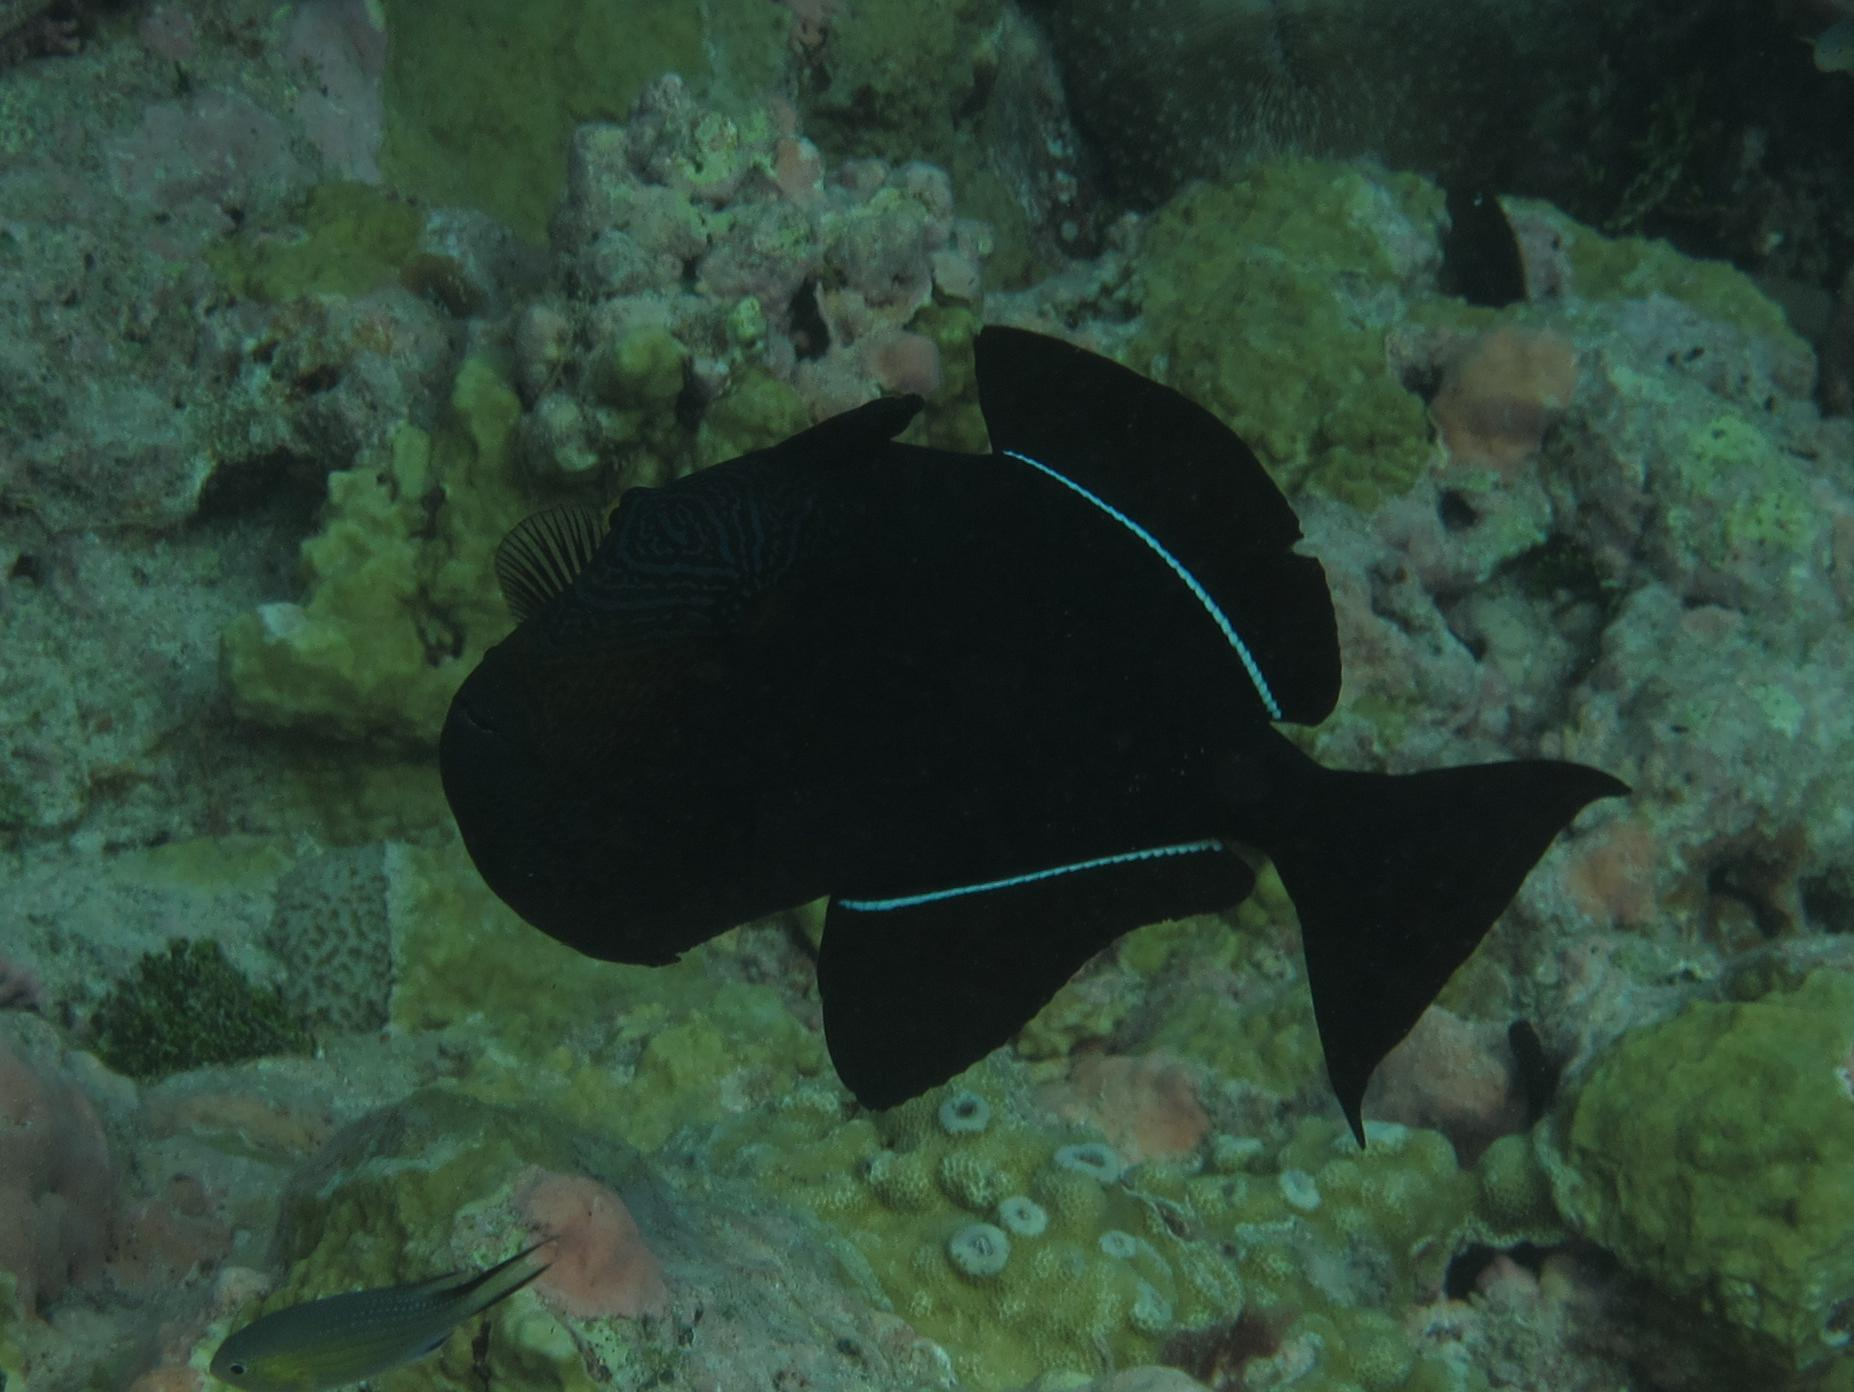Fish: (206, 158, 1661, 1189)
